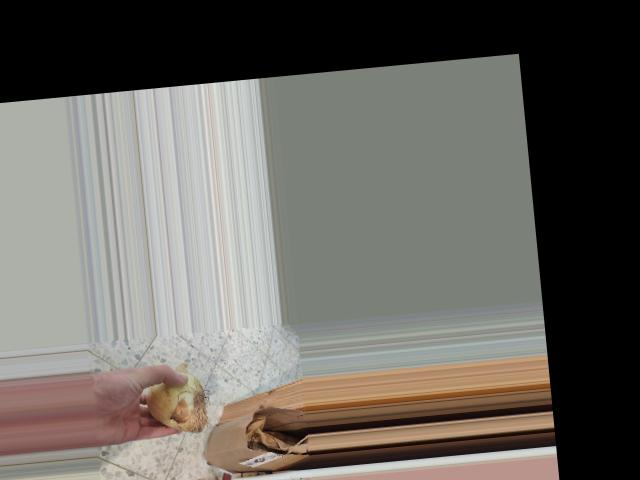onion: (138, 361, 216, 439)
